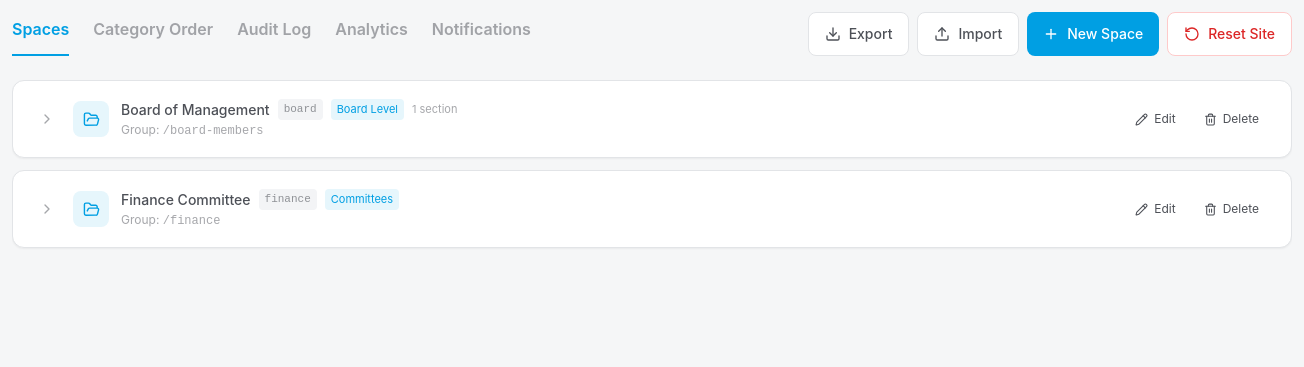
Test: AdminShell › audit log Clear resets the filters and refetches without them
Click the button "Audit Log".
click(274, 34)  # box [237,12,311,56]
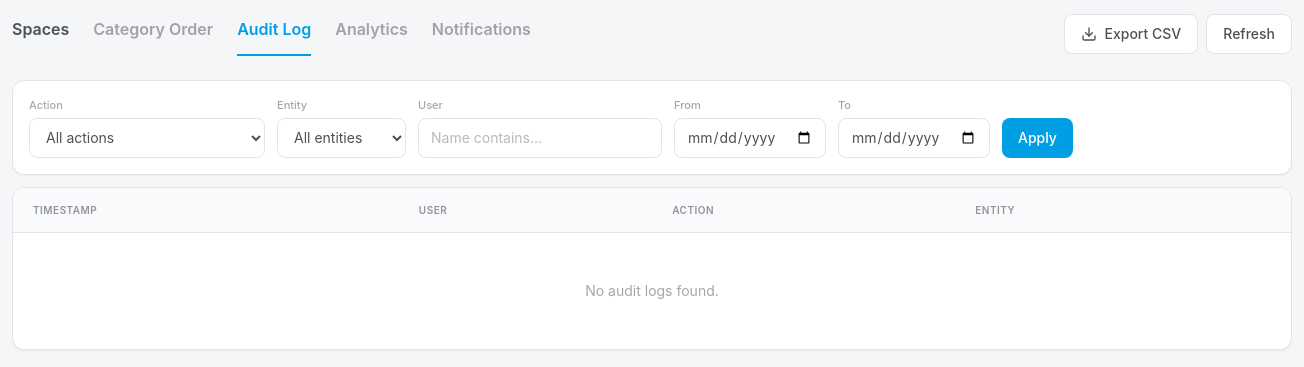
Expected: the text "No audit logs found." is shown, [13,232,1291,348]
Type "rory" into the field with placeholder "Name contains…".
click(540, 138); type("rory")  # box [418,118,662,158]
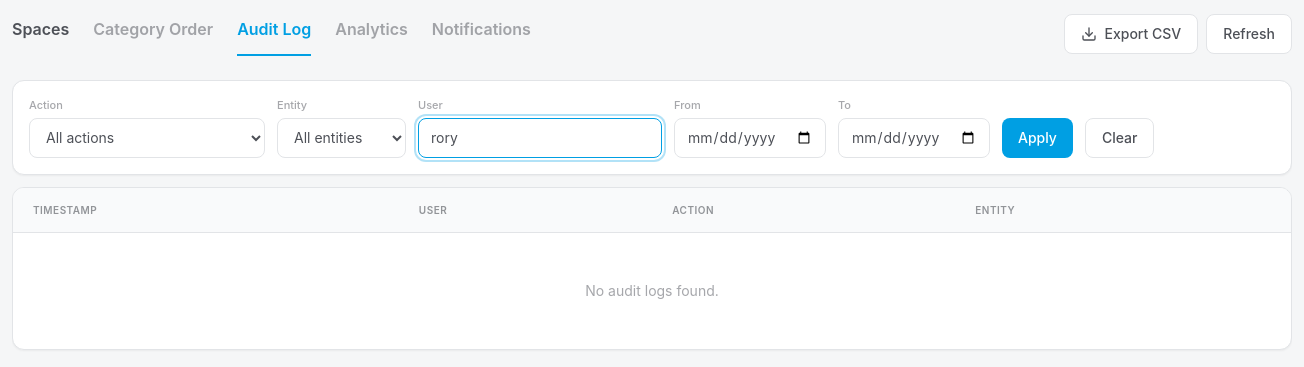
Click the button "Apply".
click(1037, 138)  # box [1002,118,1073,158]
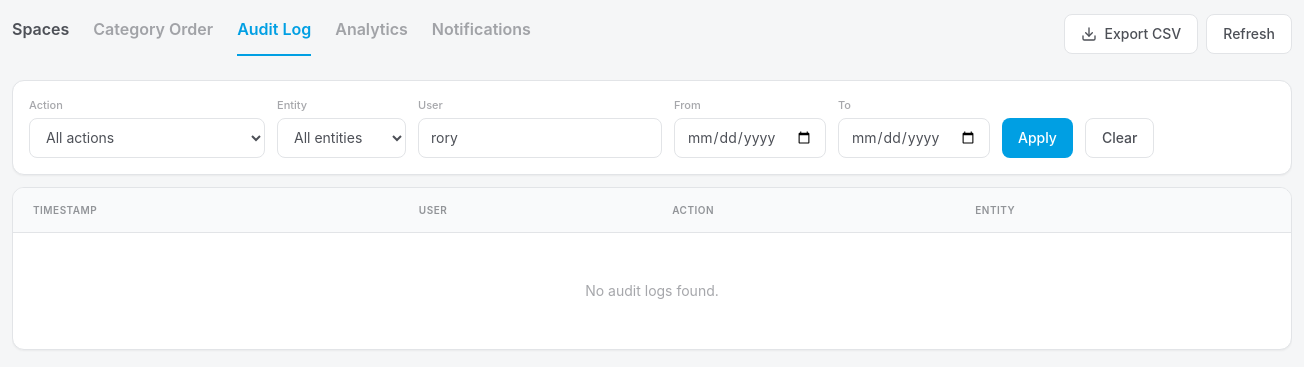
Click the button "Clear".
click(1120, 138)  # box [1085,118,1154,158]
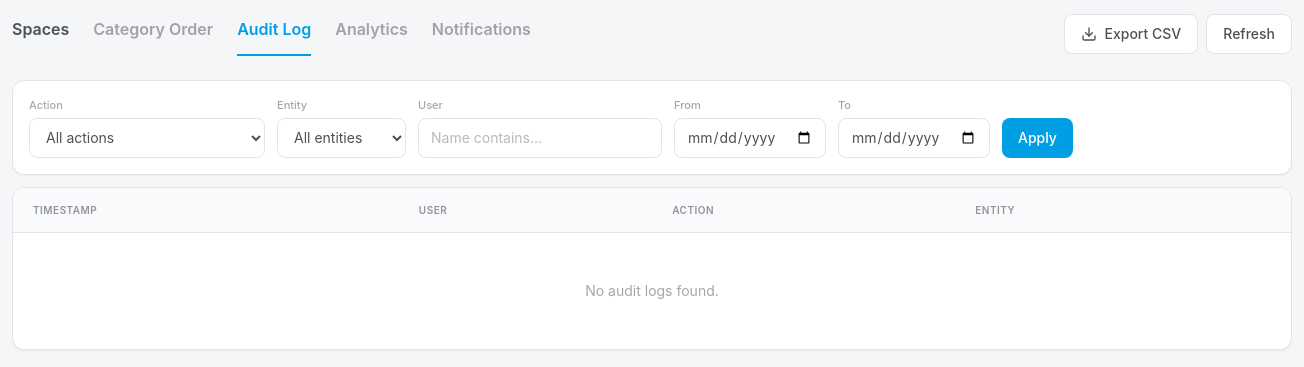
Expected: the field with placeholder "Name contains…" is empty, [418,118,662,158]
